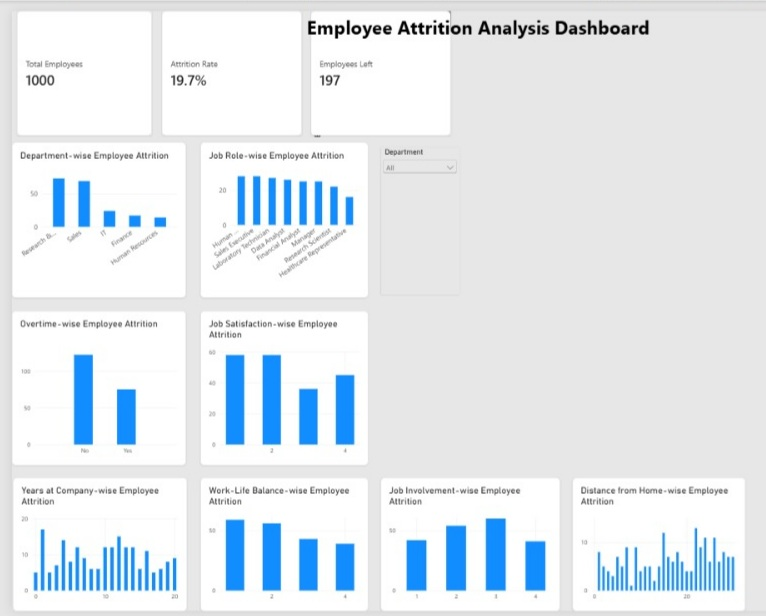

Layout of this report page (visuals, bound fields, positions):
{"tool":"powerbi","page":{"name":"Employee Attrition Analysis Dashboard","canvas":[1920,1200],"ordinal":0},"visuals":[{"type":"cardVisual","fields":{"Data":["CountNonNull(Sheet1.EmployeeID)"]},"box":[10.3,0,269.6,249.1],"z":0},{"type":"cardVisual","fields":{"Rows":["Sheet1.EmployeeID"]},"box":[596.9,0,280,280],"z":1},{"type":"cardVisual","fields":{"Data":["CountNonNull(Sheet1.EmployeeID)"]},"box":[596.9,0,279.9,249.1],"z":2},{"type":"cardVisual","fields":{"Data":["Sheet1.Attrition Rate"]},"box":[300.5,0,279.9,249.1],"z":3},{"type":"clusteredColumnChart","title":"Department-wise Employee Attrition","fields":{"Category":["Sheet1.Department"],"Y":["CountNonNull(Sheet1.Attrition)"]},"box":[0,263.5,347.9,310.8],"z":4},{"type":"clusteredColumnChart","title":"Job Role-wise Employee Attrition","fields":{"Category":["Sheet1.JobRole"],"Y":["CountNonNull(Sheet1.Attrition)"]},"box":[376.7,263.5,335.5,310.8],"z":5},{"type":"clusteredColumnChart","title":"Overtime-wise Employee Attrition","fields":{"Category":["Sheet1.Overtime"],"Y":["CountNonNull(Sheet1.Attrition)"]},"box":[0,599,347.9,308.7],"z":6},{"type":"clusteredColumnChart","title":"Job Satisfaction-wise Employee Attrition","fields":{"Category":["Sheet1.JobSatisfaction"],"Y":["CountNonNull(Sheet1.Attrition)"]},"box":[376.7,599,335.5,308.7],"z":7},{"type":"clusteredColumnChart","title":"Years at Company-wise Employee Attrition","fields":{"Category":["Sheet1.YearsAtCompany"],"Y":["CountNonNull(Sheet1.Attrition)"]},"box":[2.1,932.4,347.9,267.6],"z":8},{"type":"clusteredColumnChart","title":"Work-Life Balance-wise Employee Attrition","fields":{"Category":["Sheet1.WorkLifeBalance"],"Y":["CountNonNull(Sheet1.Attrition)"]},"box":[376.7,932.4,335.5,267.6],"z":9},{"type":"clusteredColumnChart","title":"Job Involvement-wise Employee Attrition","fields":{"Category":["Sheet1.JobInvolvement"],"Y":["CountNonNull(Sheet1.Attrition)"]},"box":[736.9,932.4,358.1,267.6],"z":10},{"type":"clusteredColumnChart","title":"Distance from Home-wise Employee Attrition","fields":{"Category":["Sheet1.DistanceFromHome"],"Y":["CountNonNull(Sheet1.Attrition)"]},"box":[1121.8,932.4,345.8,267.6],"z":11},{"type":"textbox","box":[0,6.2,1864.8,207.9],"z":18},{"type":"slicer","fields":{"Values":["Sheet1.Department"]},"box":[737.7,270.5,155.7,293.4],"z":19}]}

Visuals, with their boxes on the page's 1920x1200 design canvas (x1, y1, x2, y2). These are canvas units, not pixel positions in the 766x616 screenshot, which may show the page scaled, cropped or inside an application window:
cardVisual - CountNonNull(Sheet1.EmployeeID): {"x1": 10, "y1": 0, "x2": 280, "y2": 249}
cardVisual - Sheet1.EmployeeID: {"x1": 597, "y1": 0, "x2": 877, "y2": 280}
cardVisual - CountNonNull(Sheet1.EmployeeID): {"x1": 597, "y1": 0, "x2": 877, "y2": 249}
cardVisual - Sheet1.Attrition Rate: {"x1": 300, "y1": 0, "x2": 580, "y2": 249}
"Department-wise Employee Attrition" clusteredColumnChart: {"x1": 0, "y1": 264, "x2": 348, "y2": 574}
"Job Role-wise Employee Attrition" clusteredColumnChart: {"x1": 377, "y1": 264, "x2": 712, "y2": 574}
"Overtime-wise Employee Attrition" clusteredColumnChart: {"x1": 0, "y1": 599, "x2": 348, "y2": 908}
"Job Satisfaction-wise Employee Attrition" clusteredColumnChart: {"x1": 377, "y1": 599, "x2": 712, "y2": 908}
"Years at Company-wise Employee Attrition" clusteredColumnChart: {"x1": 2, "y1": 932, "x2": 350, "y2": 1200}
"Work-Life Balance-wise Employee Attrition" clusteredColumnChart: {"x1": 377, "y1": 932, "x2": 712, "y2": 1200}
"Job Involvement-wise Employee Attrition" clusteredColumnChart: {"x1": 737, "y1": 932, "x2": 1095, "y2": 1200}
"Distance from Home-wise Employee Attrition" clusteredColumnChart: {"x1": 1122, "y1": 932, "x2": 1468, "y2": 1200}
textbox: {"x1": 0, "y1": 6, "x2": 1865, "y2": 214}
slicer - Sheet1.Department: {"x1": 738, "y1": 270, "x2": 893, "y2": 564}
